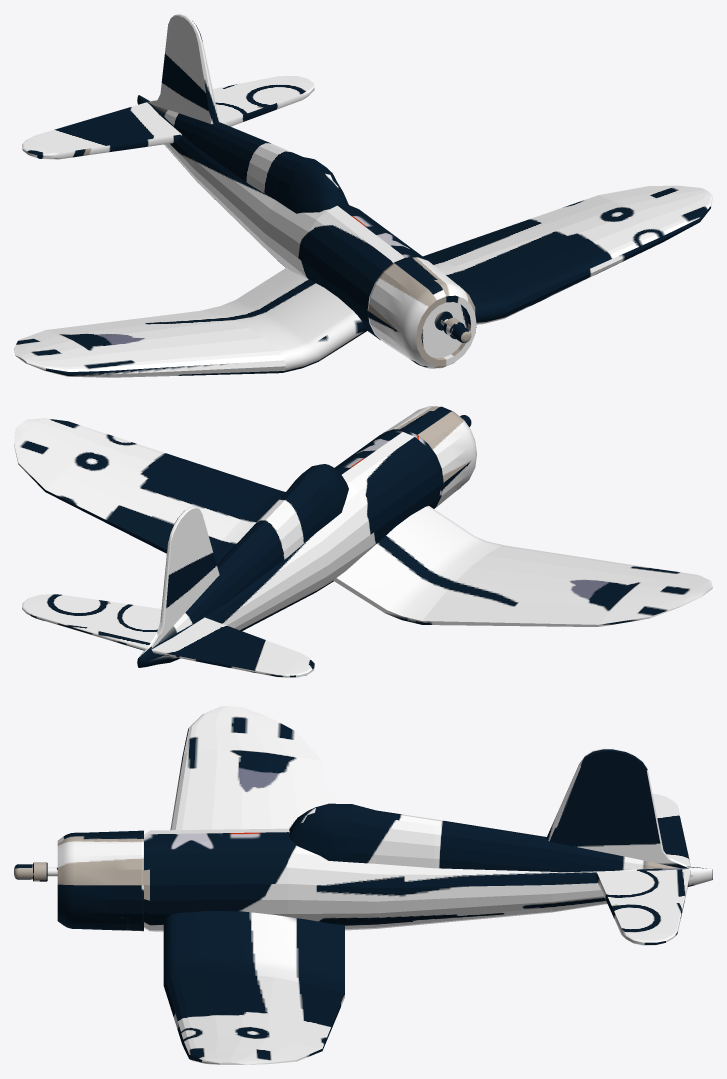
3 views of the same model, one above another, from view 1: azimuth 30°, elevation 25°; view 2: azimuth 150°, elevation 25°; view 3: azimuth 270°, elevation 25° (orthographic). The views are drawn at different scales.
Visible parts, largest first — view 1: F4U_JiShen; view 2: F4U_JiShen; view 3: F4U_JiShen.
Boxes of the visible parts, x1,y1,x2,y2 form: F4U_JiShen: [14, 14, 712, 377]; F4U_JiShen: [14, 406, 712, 677]; F4U_JiShen: [14, 706, 712, 1064].
Bounding box in the file's own units: 12.5 × 3.12 × 10.35.
